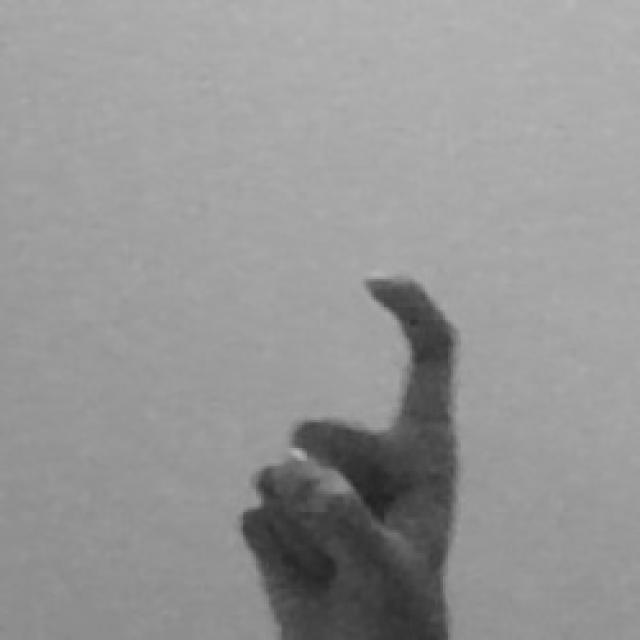X: (234, 268, 474, 640)
